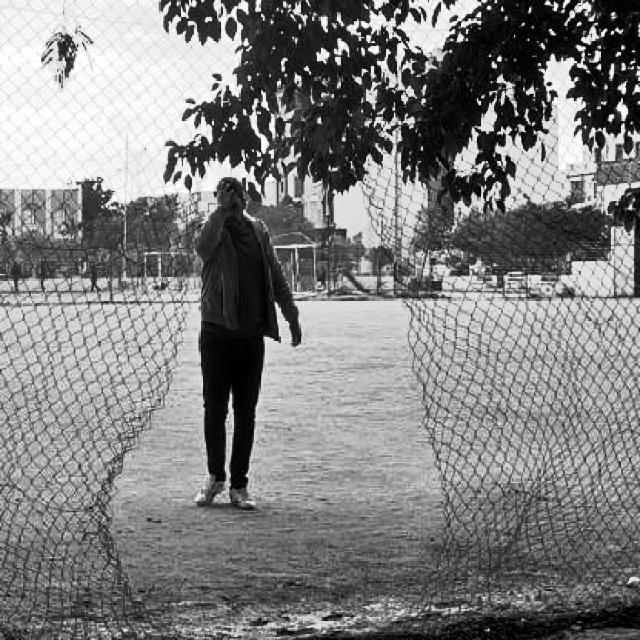anomaly-fence: (93, 154, 474, 626)
